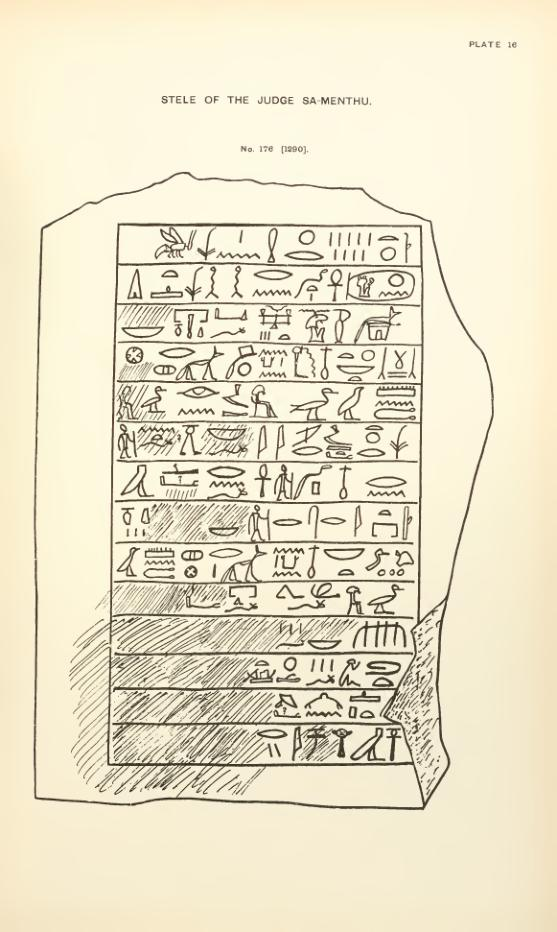circle: (344, 269, 420, 303)
